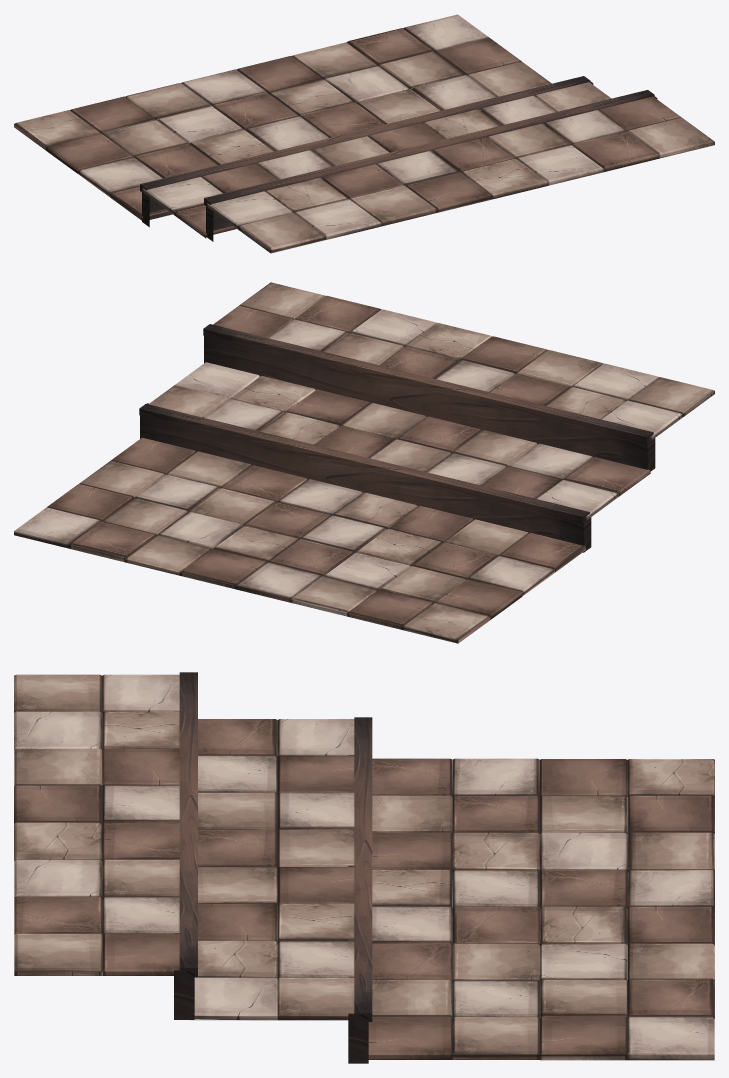
File: Floor_2_Steps_Straight.fbx
3 renders of one model, top to bottom at view 1: azimuth 30°, elevation 25°; view 2: azimuth 150°, elevation 25°; view 3: azimuth 270°, elevation 25°, orthographic. The views are drawn at different scales.
Visible parts, largest first — view 1: Floor_Stairs_2_Steps; view 2: Floor_Stairs_2_Steps; view 3: Floor_Stairs_2_Steps.
Part boxes in pixels (bbox=[...]): Floor_Stairs_2_Steps: bbox=[14, 14, 714, 253]; Floor_Stairs_2_Steps: bbox=[14, 282, 714, 643]; Floor_Stairs_2_Steps: bbox=[14, 672, 714, 1063].
Bounding box in the file's own units: 0.601 × 0.0901 × 0.6006.
